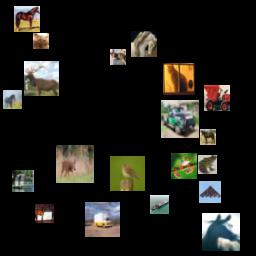airplane: (199, 181, 221, 203)
bird: (110, 156, 145, 191)
cat: (163, 63, 195, 95), (110, 49, 126, 65), (33, 33, 49, 49)
deer: (56, 145, 94, 183), (24, 61, 59, 96)
frog: (171, 153, 197, 179), (198, 155, 217, 174)
ship: (12, 170, 34, 192), (150, 195, 169, 214)
truck: (161, 100, 199, 138), (85, 202, 120, 237), (204, 85, 230, 111)
